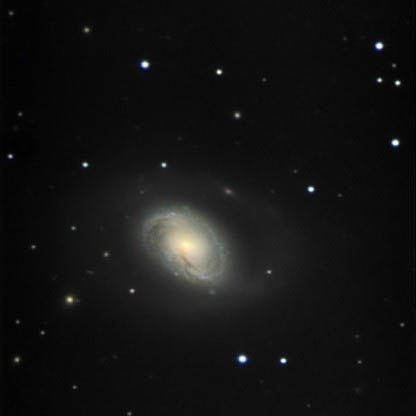Messier 96: (82, 164, 319, 326)
